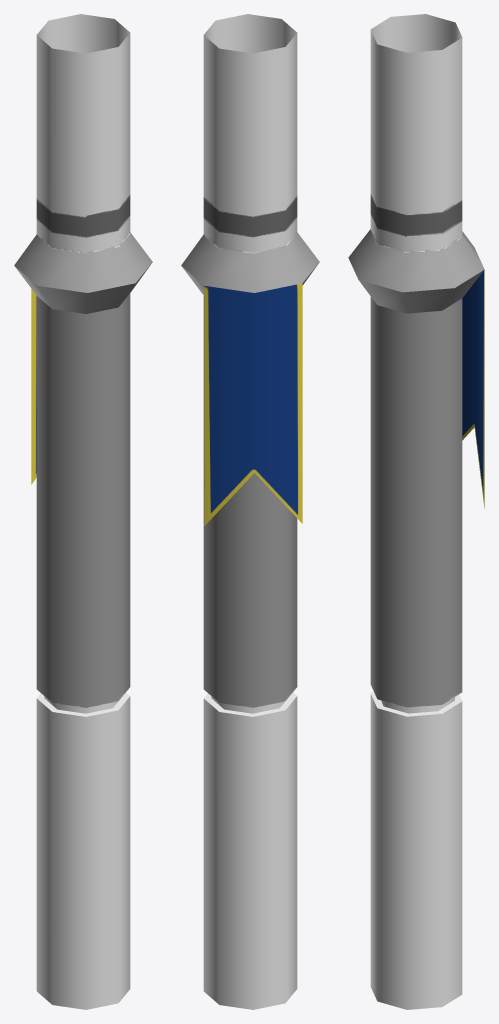
Rendered from Pilar.fbx.
The picture shows the model from 3 angles, left to right: view 1: azimuth 30°, elevation 25°; view 2: azimuth 210°, elevation 25°; view 3: azimuth 330°, elevation 25°; orthographic projection.
Parts seen in each view (by area): view 1: Pilar_mago; view 2: Pilar_mago; view 3: Pilar_mago.
Boxes of the visible parts, x1,y1,x2,y2 form: Pilar_mago: (14, 14, 152, 1009); Pilar_mago: (181, 14, 319, 1009); Pilar_mago: (348, 14, 484, 1009).
Size of the model in its own units: 1.11 by 8.88 by 1.11.
